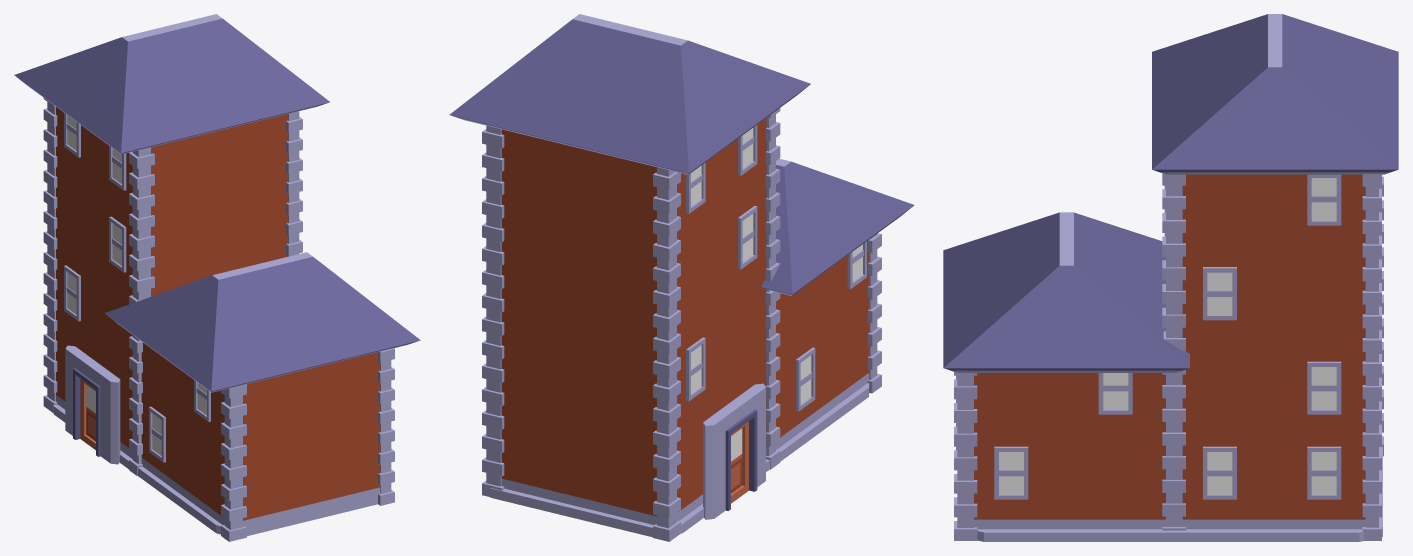
The model's file is house2.fbx.
3 views of the same model, side by side, from view 1: azimuth 30°, elevation 25°; view 2: azimuth 150°, elevation 25°; view 3: azimuth 270°, elevation 25° (orthographic). The views are drawn at different scales.
Parts seen in each view (by area): view 1: mergedBlocks; view 2: mergedBlocks; view 3: mergedBlocks.
Boxes of the visible parts, <box> form: mergedBlocks: <box>14,14,420,541</box>; mergedBlocks: <box>449,14,914,541</box>; mergedBlocks: <box>943,14,1398,541</box>.
Size of the model in its own units: 26.77 by 47.98 by 43.64.
